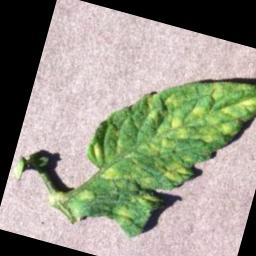Leaf_Mold: (66, 39, 256, 256)
